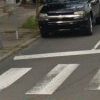crosswalk: (0, 63, 99, 94)
